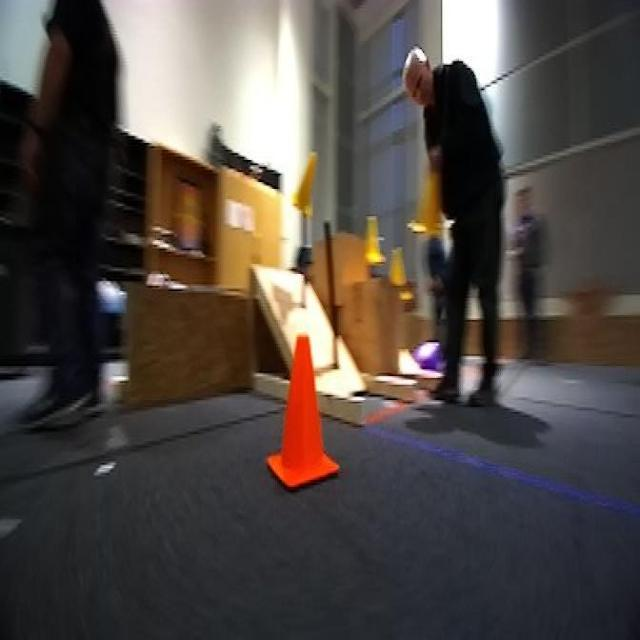frc_cone: (293, 148, 321, 213), (418, 169, 443, 240), (388, 233, 412, 300), (364, 209, 385, 274)
frc_cube: (412, 340, 439, 373)
